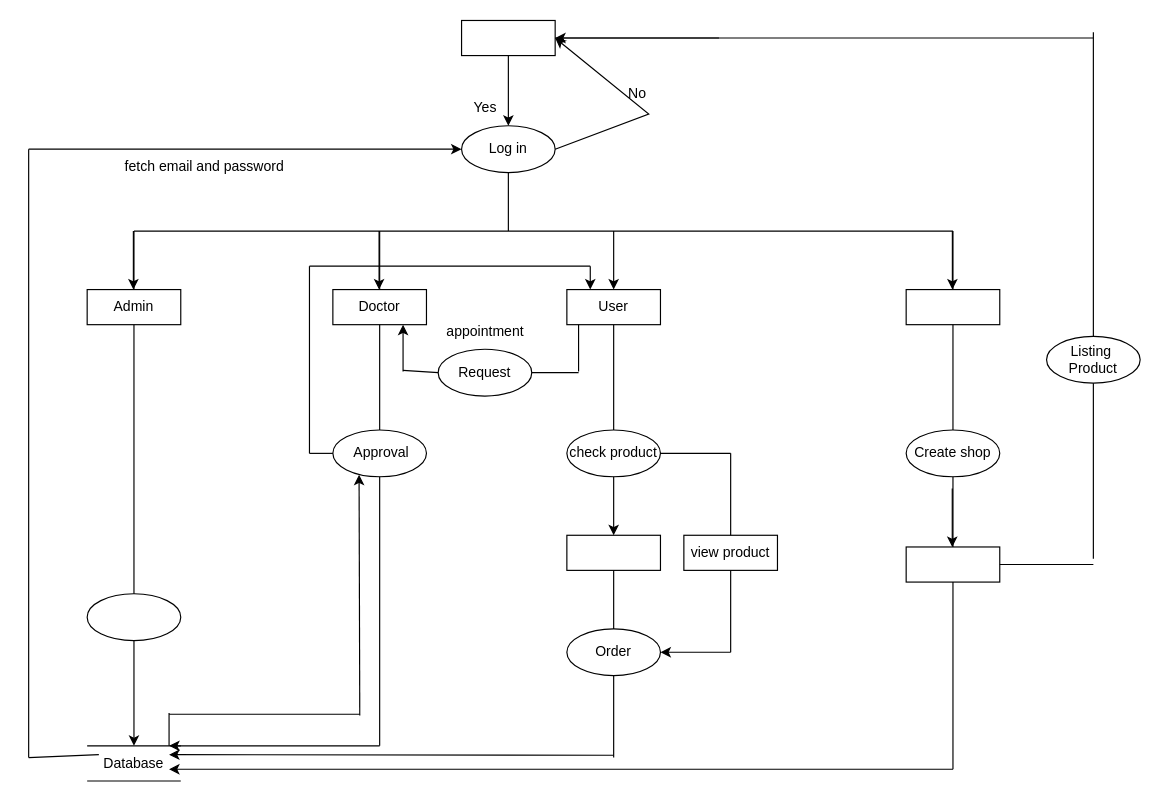
Image size: 1161x803. Some labels were removed from this diagram. The shapes that lost their labels are listed below. From the top down, each one's box as (x1, y1, x2, y2) in pixels, then its label:
(460, 19, 555, 56): Home
(905, 288, 1000, 325): Shopkeeper
(566, 534, 660, 570): add cart
(905, 546, 1000, 582): List medicien
(86, 593, 181, 641): Manage DB
